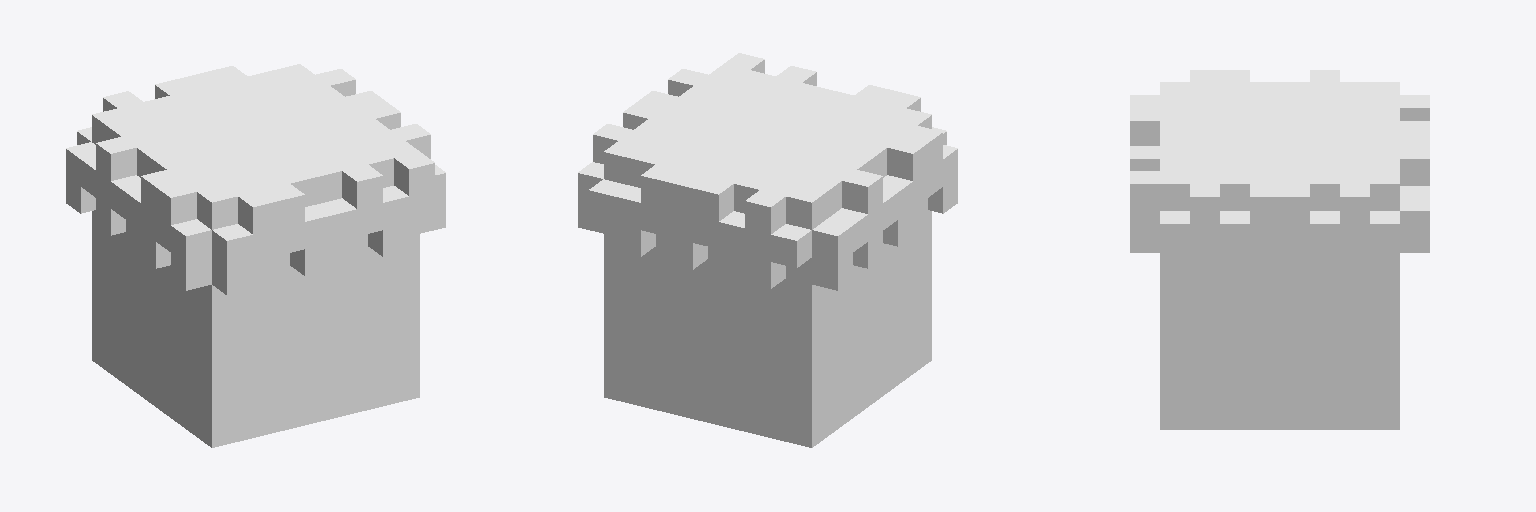
Rendered from glue_mcgrass.obj.
3 renders of one model, left to right at view 1: azimuth 30°, elevation 25°; view 2: azimuth 150°, elevation 25°; view 3: azimuth 270°, elevation 25°, orthographic.
Visible parts, largest first — view 1: object 1; view 2: object 1; view 3: object 1.
Part boxes in pixels (left/top/right/bottom): object 1: left=66, top=64, right=445, bottom=447; object 1: left=578, top=53, right=957, bottom=447; object 1: left=1130, top=70, right=1429, bottom=429.
Size of the model in its own units: 1 by 0.9 by 1.